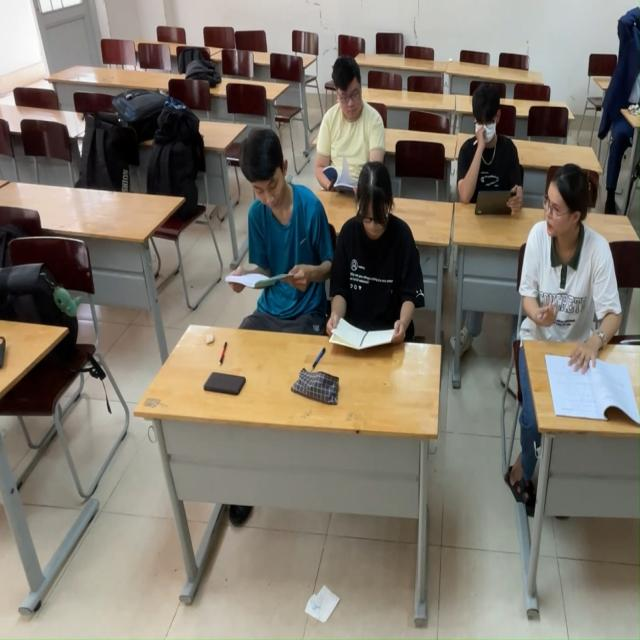read: (522, 160, 638, 422), (218, 114, 325, 341), (329, 186, 425, 355), (450, 74, 519, 214), (322, 62, 385, 178)
